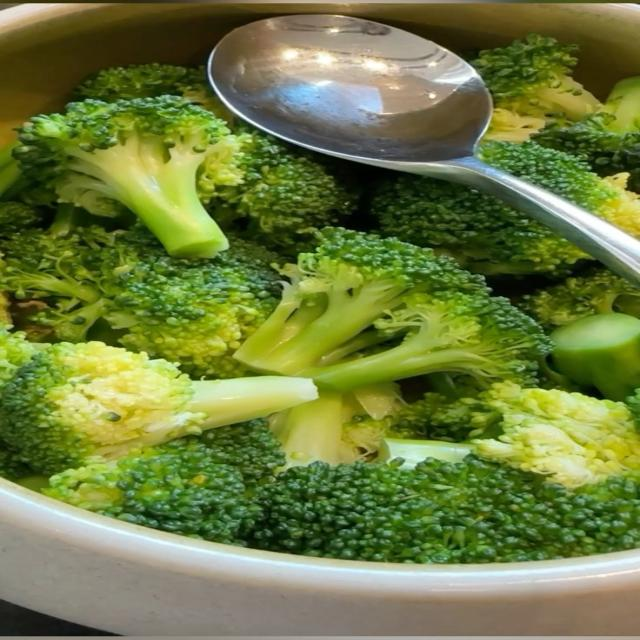broccoli: (76, 64, 359, 254), (0, 219, 280, 377), (0, 343, 317, 474), (250, 457, 639, 563), (235, 228, 486, 374), (14, 96, 236, 257), (43, 420, 284, 544), (104, 229, 280, 378), (305, 291, 551, 391), (42, 442, 259, 545), (371, 175, 589, 275), (199, 128, 359, 254), (472, 384, 639, 488), (0, 205, 119, 342), (472, 34, 599, 141), (532, 77, 639, 191), (271, 386, 404, 466), (74, 63, 233, 124), (551, 313, 639, 401), (519, 267, 639, 329), (186, 419, 286, 487), (0, 319, 46, 389), (0, 314, 37, 392), (378, 438, 475, 467), (0, 201, 45, 251), (603, 76, 639, 133), (0, 443, 33, 481), (0, 142, 20, 198), (0, 291, 12, 325)
